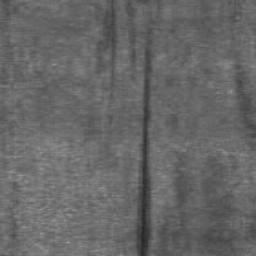Scratches: (134, 49, 153, 256)
